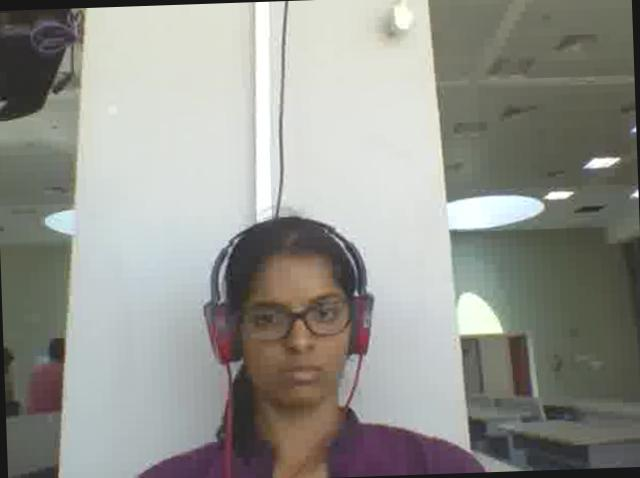bingung: (238, 254, 356, 410)
